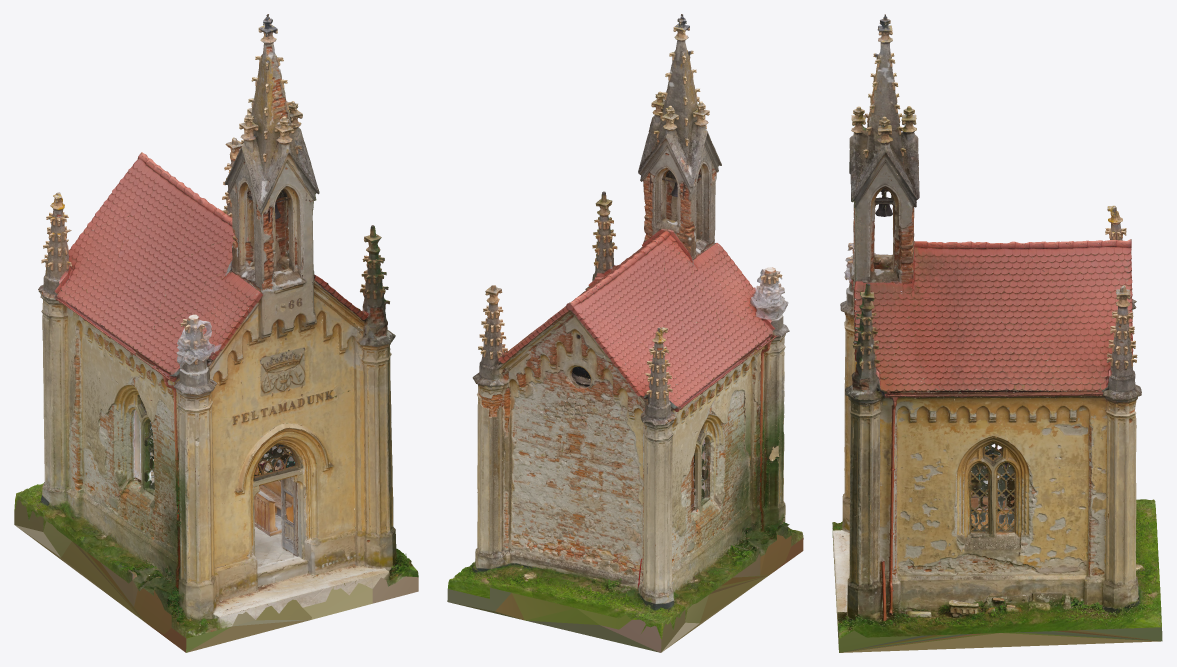
Rendered from sf-countryside-chappel-dataset-419d6e.glb.
3 views of the same model, side by side, from view 1: azimuth 30°, elevation 25°; view 2: azimuth 150°, elevation 25°; view 3: azimuth 270°, elevation 25° (orthographic). The views are drawn at different scales.
Visible parts, largest first — view 1: kaplicka_kaplicka_u1_v1_0, kaplicka_kaplicka_u2_v1_0, kaplicka_kaplicka_u3_v1_0, kaplicka_kaplicka_u1_v2_0, kaplicka_kaplicka_u2_v2_0; view 2: kaplicka_kaplicka_u1_v1_0, kaplicka_kaplicka_u2_v1_0, kaplicka_kaplicka_u3_v1_0, kaplicka_kaplicka_u1_v2_0, kaplicka_kaplicka_u2_v2_0; view 3: kaplicka_kaplicka_u1_v1_0, kaplicka_kaplicka_u2_v1_0, kaplicka_kaplicka_u3_v1_0, kaplicka_kaplicka_u1_v2_0, kaplicka_kaplicka_u2_v2_0.
Part boxes in pixels (left/top/right/bottom): kaplicka_kaplicka_u1_v1_0: left=14, top=24, right=418, bottom=652; kaplicka_kaplicka_u2_v1_0: left=20, top=14, right=411, bottom=637; kaplicka_kaplicka_u3_v1_0: left=14, top=18, right=418, bottom=638; kaplicka_kaplicka_u1_v2_0: left=16, top=42, right=399, bottom=604; kaplicka_kaplicka_u2_v2_0: left=43, top=138, right=407, bottom=631; kaplicka_kaplicka_u1_v1_0: left=447, top=21, right=803, bottom=652; kaplicka_kaplicka_u2_v1_0: left=449, top=14, right=802, bottom=624; kaplicka_kaplicka_u3_v1_0: left=447, top=18, right=803, bottom=639; kaplicka_kaplicka_u1_v2_0: left=473, top=40, right=789, bottom=623; kaplicka_kaplicka_u2_v2_0: left=452, top=129, right=802, bottom=618; kaplicka_kaplicka_u1_v1_0: left=832, top=17, right=1162, bottom=652; kaplicka_kaplicka_u2_v1_0: left=833, top=14, right=1161, bottom=635; kaplicka_kaplicka_u3_v1_0: left=832, top=19, right=1161, bottom=649; kaplicka_kaplicka_u1_v2_0: left=840, top=42, right=1154, bottom=633; kaplicka_kaplicka_u2_v2_0: left=833, top=132, right=1160, bottom=637.
Size of the model in its own units: 5.68 by 13.28 by 6.85.
5 materials, 5 textured.
